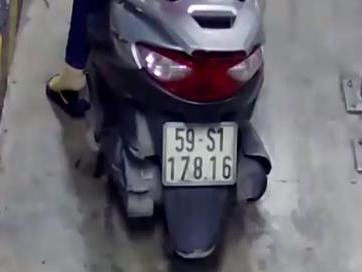num_plate: (161, 121, 238, 187)
